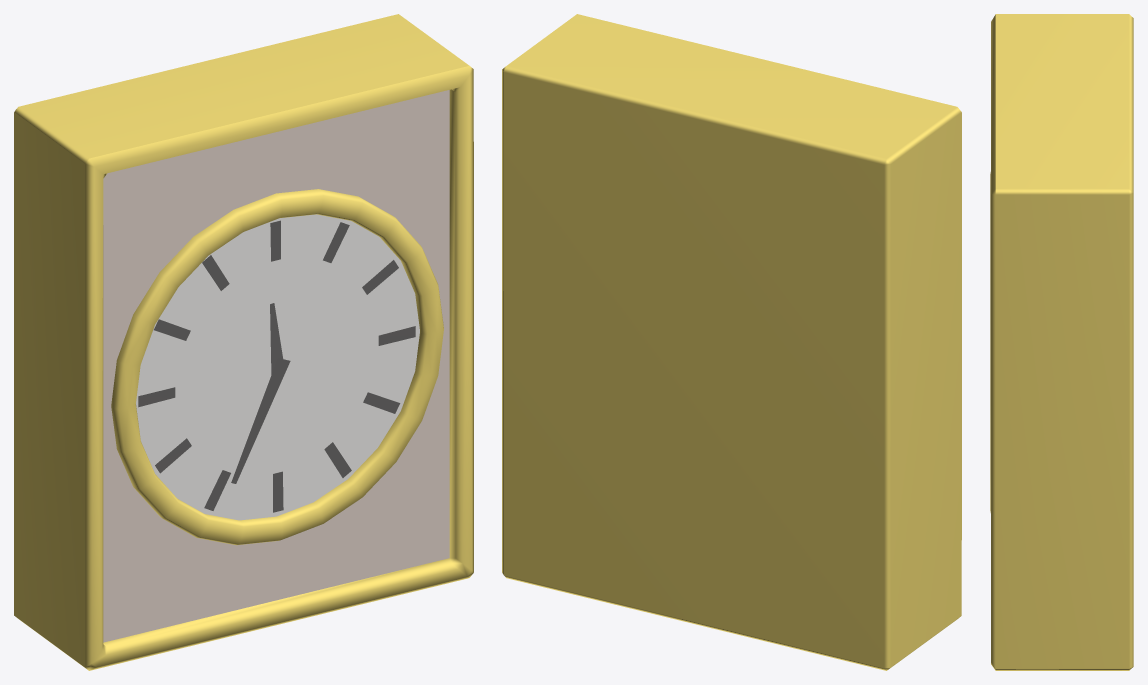
The model's file is Clock_3.glb.
3 renders of one model, left to right at view 1: azimuth 30°, elevation 25°; view 2: azimuth 150°, elevation 25°; view 3: azimuth 270°, elevation 25°, orthographic. The views are drawn at different scales.
Visible parts, largest first — view 1: Clock_3; view 2: Clock_3; view 3: Clock_3.
Part boxes in pixels (box(x1,y1,x2,y2)): Clock_3: box(14, 14, 473, 670); Clock_3: box(502, 14, 961, 670); Clock_3: box(990, 14, 1133, 670).
Size of the model in its own units: 0.2145 by 0.27 by 0.0729.
1 material, 1 textured.
